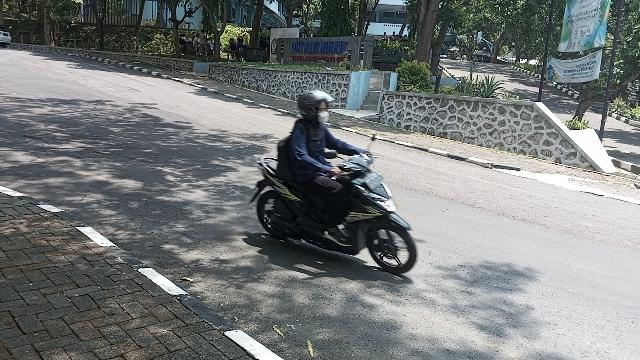helm: (299, 91, 335, 124)
motor: (250, 153, 418, 275)
